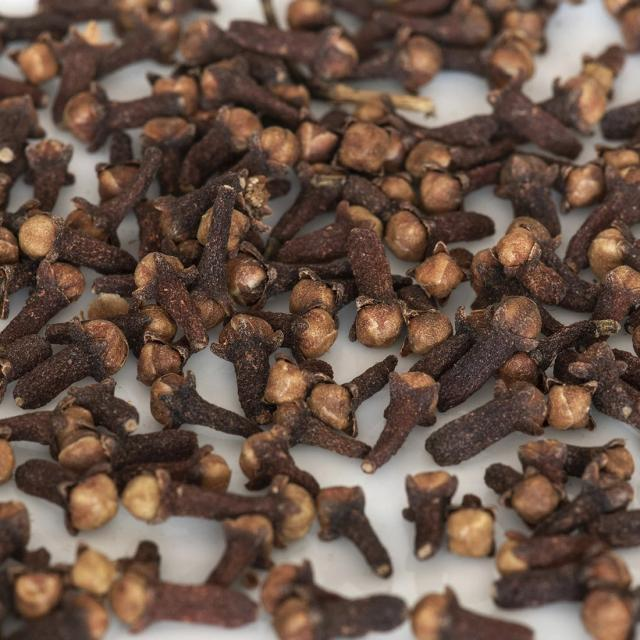clove: (0, 0, 640, 589)
